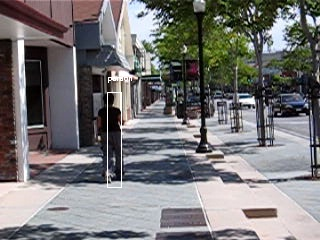person: (97, 91, 128, 185), (96, 91, 127, 185), (98, 91, 129, 185), (97, 90, 128, 184), (97, 92, 128, 186)
target_negative: (236, 61, 314, 155), (255, 129, 317, 205), (39, 78, 58, 180), (95, 183, 216, 198), (171, 194, 301, 206), (83, 145, 199, 156)
